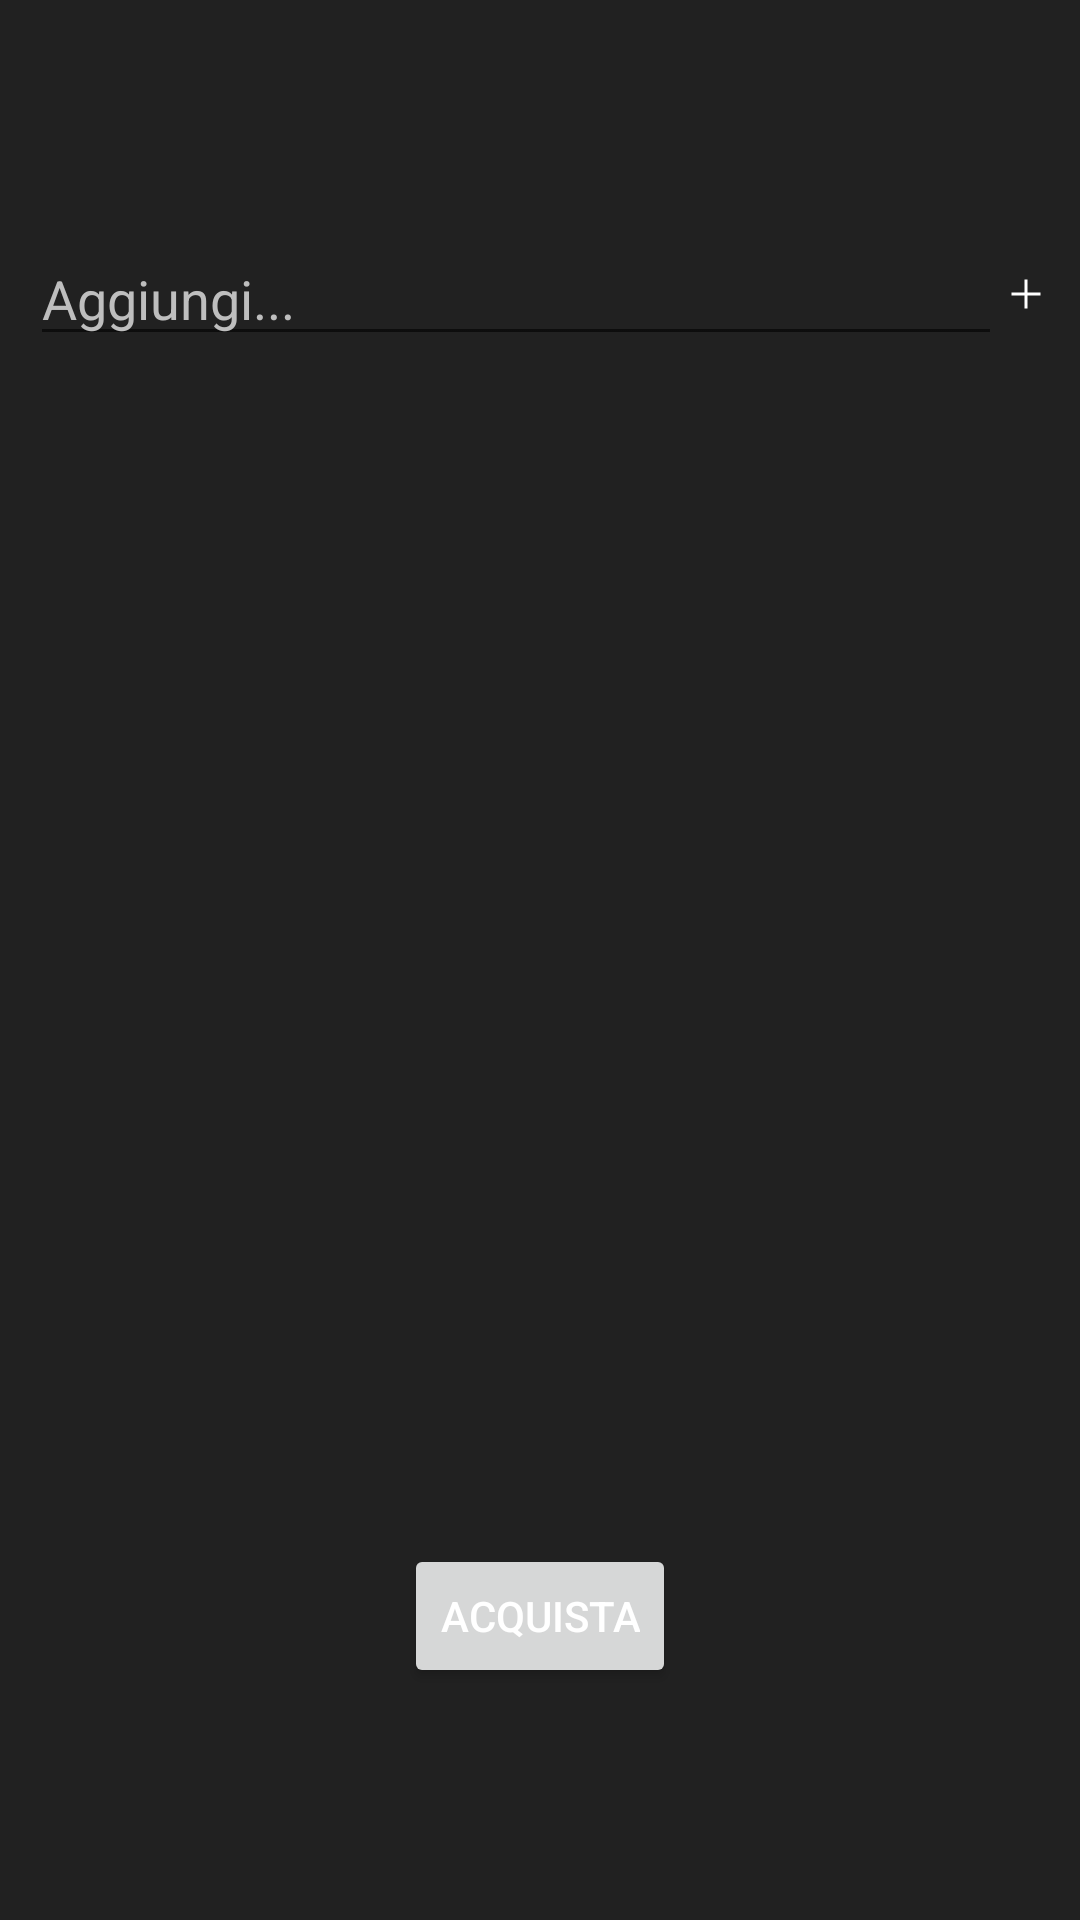

Where icons sit on this 1080×1920 app screen, as (x1, y1, x2, y2):
add: (1011, 279, 1041, 309)
